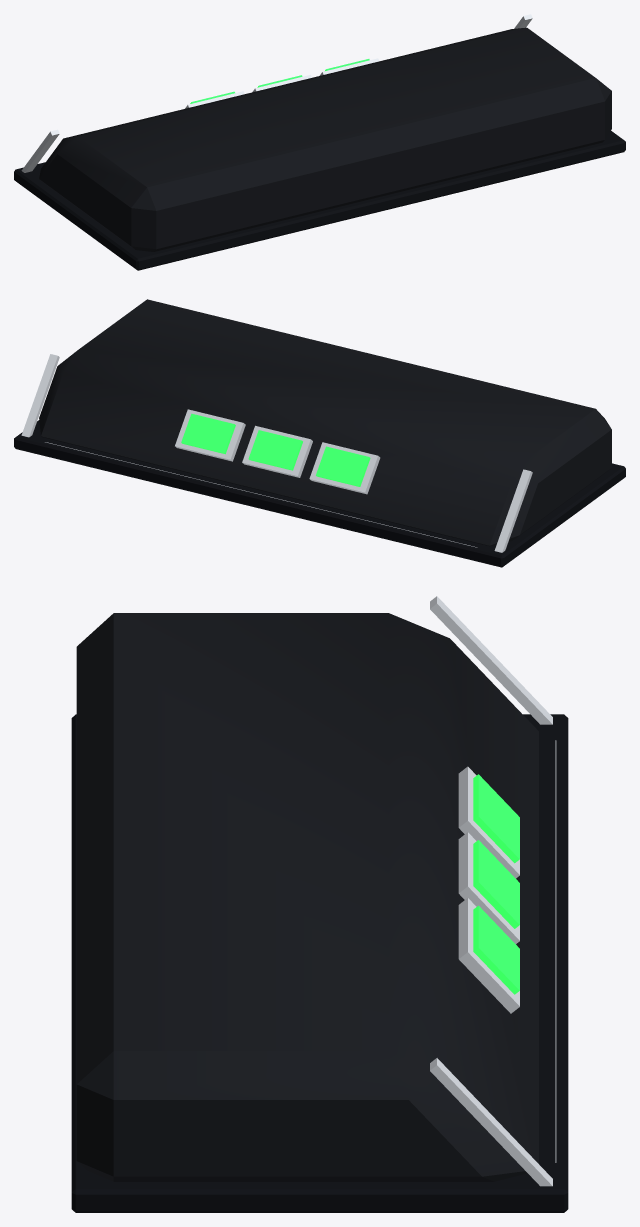
Rendered from deck_cap_trio.glb.
3 renders of one model, top to bottom at view 1: azimuth 30°, elevation 25°; view 2: azimuth 150°, elevation 25°; view 3: azimuth 270°, elevation 25°, orthographic. The views are drawn at different scales.
Visible parts, largest first — view 1: deck_cap_trio_deco_body, deck_cap_trio_deco_trim, deck_cap_trio_chrome; view 2: deck_cap_trio_deco_body, deck_cap_trio_deco_trim, deck_cap_trio_chrome, deck_cap_trio_deco_led; view 3: deck_cap_trio_deco_body, deck_cap_trio_deco_trim, deck_cap_trio_chrome, deck_cap_trio_deco_led.
Boxes of the visible parts, <box> form: deck_cap_trio_deco_body: <box>39,27,611,251</box>; deck_cap_trio_deco_trim: <box>14,131,625,270</box>; deck_cap_trio_chrome: <box>21,14,532,172</box>; deck_cap_trio_deco_body: <box>39,299,611,546</box>; deck_cap_trio_deco_trim: <box>14,420,625,567</box>; deck_cap_trio_chrome: <box>21,354,532,552</box>; deck_cap_trio_deco_led: <box>181,413,370,486</box>; deck_cap_trio_deco_body: <box>76,613,538,1181</box>; deck_cap_trio_deco_trim: <box>71,714,568,1212</box>; deck_cap_trio_chrome: <box>430,596,556,1186</box>; deck_cap_trio_deco_led: <box>473,774,519,994</box>.
Bounding box in the file's own units: 2.14 × 0.3028 × 0.94.
